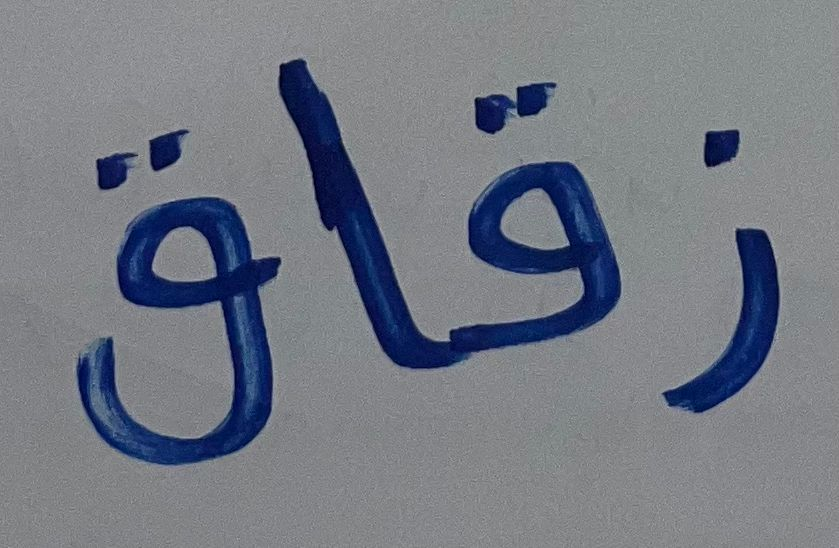alef: (281, 42, 435, 374)
noon: (655, 106, 813, 432)
qaf: (55, 111, 277, 472), (438, 62, 639, 375)
